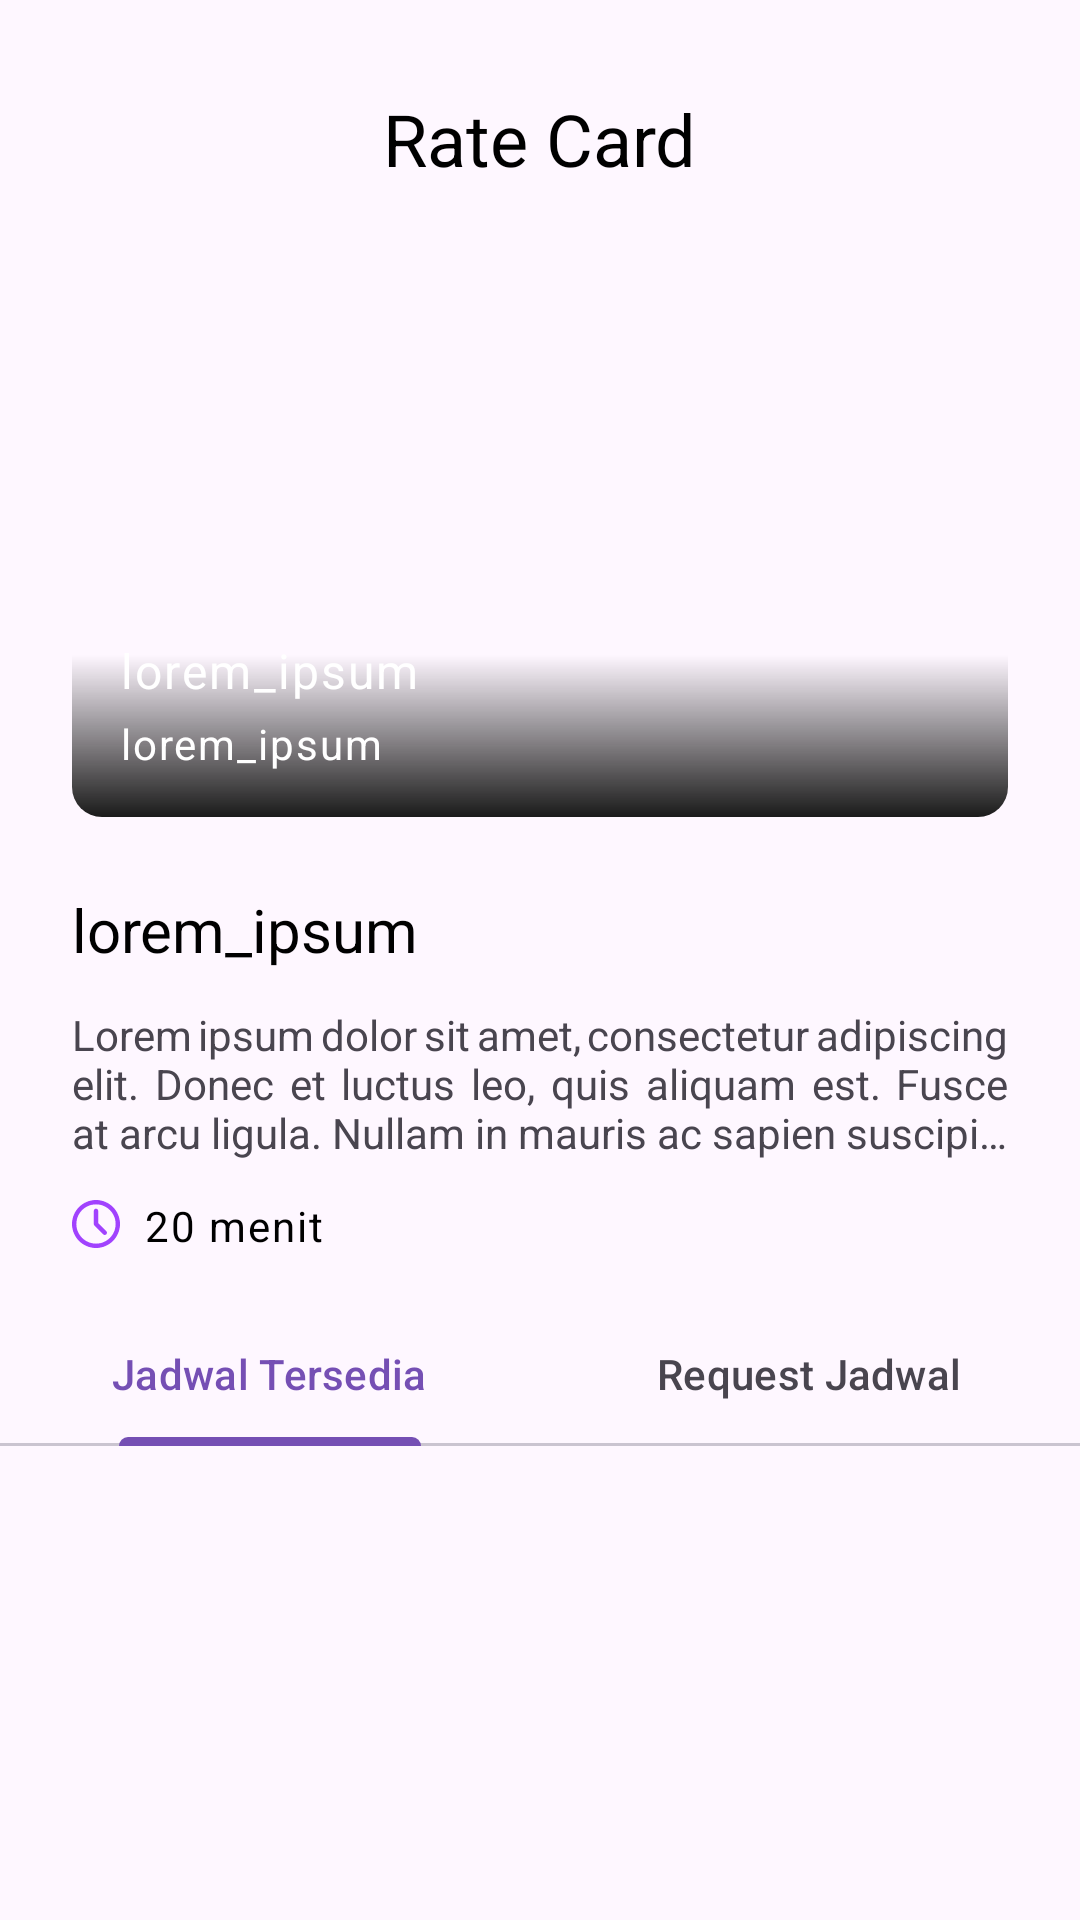

Named icons in this screenshot (1080*1920) and their centers, [x,y]:
time: [96,1224]
